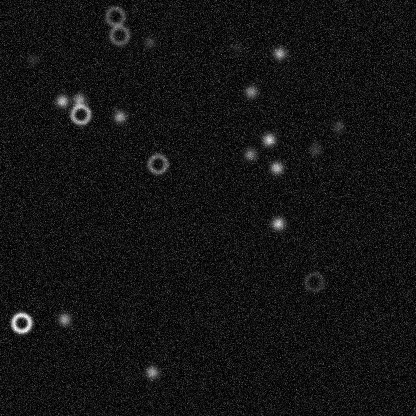Ring: (145, 151, 169, 175), (9, 310, 33, 334), (107, 23, 131, 47), (103, 4, 127, 28), (302, 269, 326, 293), (68, 102, 92, 126)
Spot: (330, 118, 346, 134), (227, 39, 243, 55), (111, 108, 127, 124), (268, 159, 284, 175), (260, 131, 276, 147), (242, 83, 258, 99), (24, 51, 40, 67), (306, 141, 322, 157), (53, 92, 69, 108), (144, 364, 160, 380), (56, 311, 72, 327), (241, 146, 257, 162), (269, 215, 285, 231), (70, 91, 86, 107), (271, 45, 287, 61), (141, 34, 157, 50)
